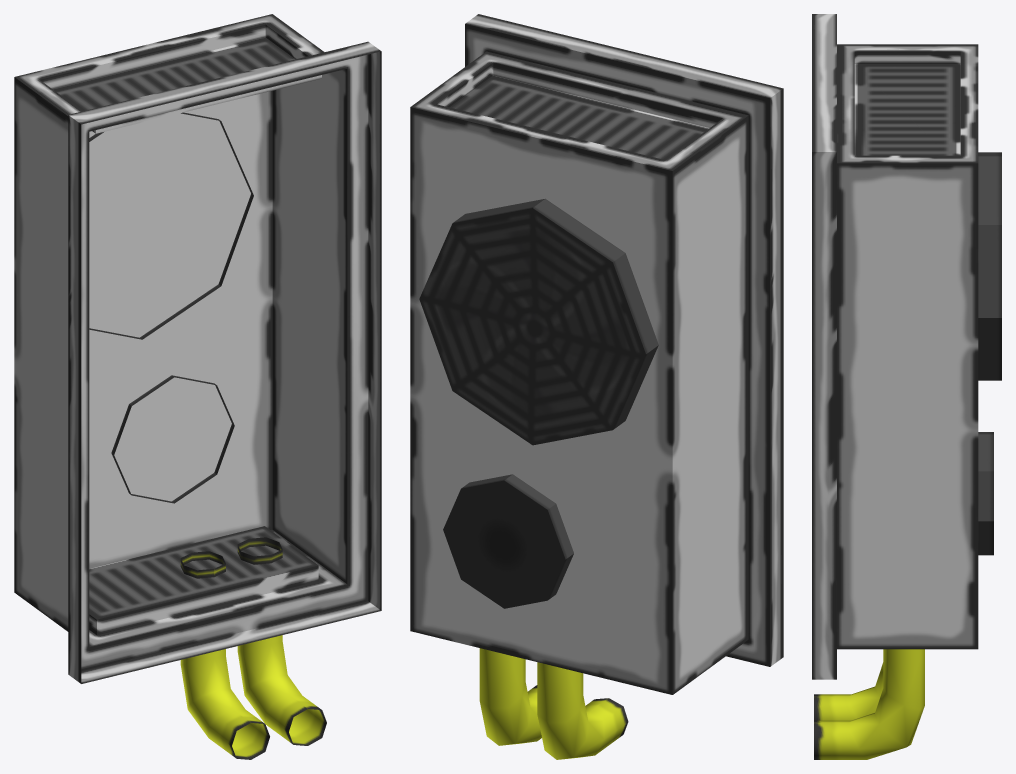
Rendered from AirConWall.fbx.
3 renders of one model, left to right at view 1: azimuth 30°, elevation 25°; view 2: azimuth 150°, elevation 25°; view 3: azimuth 270°, elevation 25°, orthographic. The views are drawn at different scales.
Parts seen in each view (by area): view 1: Plane.028; view 2: Plane.028; view 3: Plane.028.
Part boxes in pixels (<box>): Plane.028: <box>14,14,381,759</box>; Plane.028: <box>410,14,783,759</box>; Plane.028: <box>812,14,1001,759</box>.
Bounding box in the file's own units: 62.2 × 134 × 36.11.
